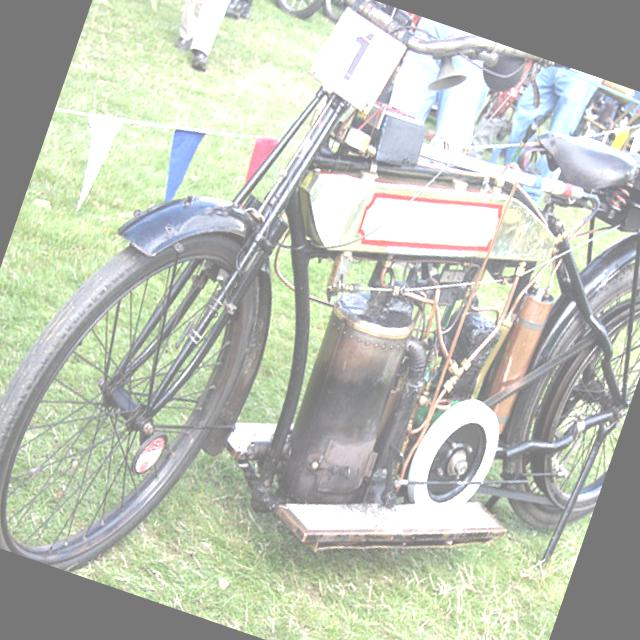Vehicle: (0, 0, 640, 640), (260, 0, 328, 23), (281, 0, 349, 22)
